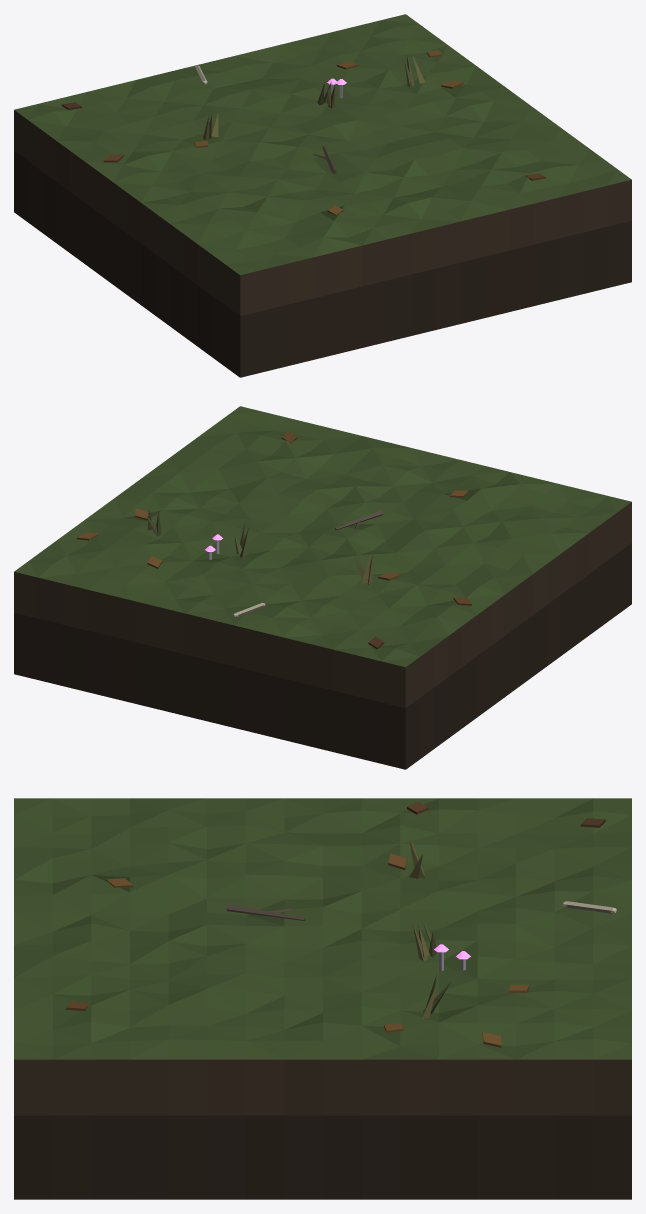
Rendered from haunt_grass_2.glb.
3 views of the same model, one above another, from view 1: azimuth 30°, elevation 25°; view 2: azimuth 150°, elevation 25°; view 3: azimuth 270°, elevation 25° (orthographic). The views are drawn at different scales.
Parts seen in each view (by area): view 1: HauntGrass2; view 2: HauntGrass2; view 3: HauntGrass2.
Part boxes in pixels (x1,y1,x2,y2): HauntGrass2: (14, 14, 631, 377); HauntGrass2: (14, 406, 631, 769); HauntGrass2: (14, 798, 631, 1199).
Size of the model in its own units: 2 by 0.6347 by 2.
